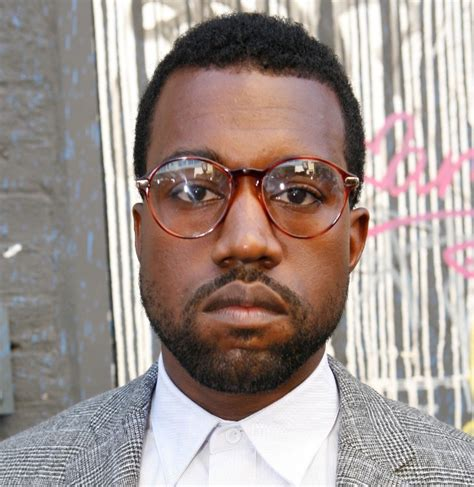sem_capacete: (123, 11, 374, 401)
